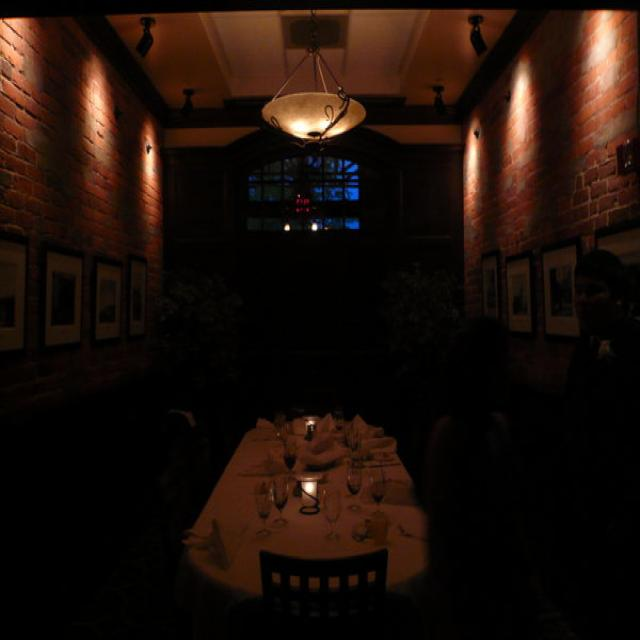People: (545, 226, 640, 576)
Table: (173, 365, 424, 640)
chair: (243, 544, 398, 640)
